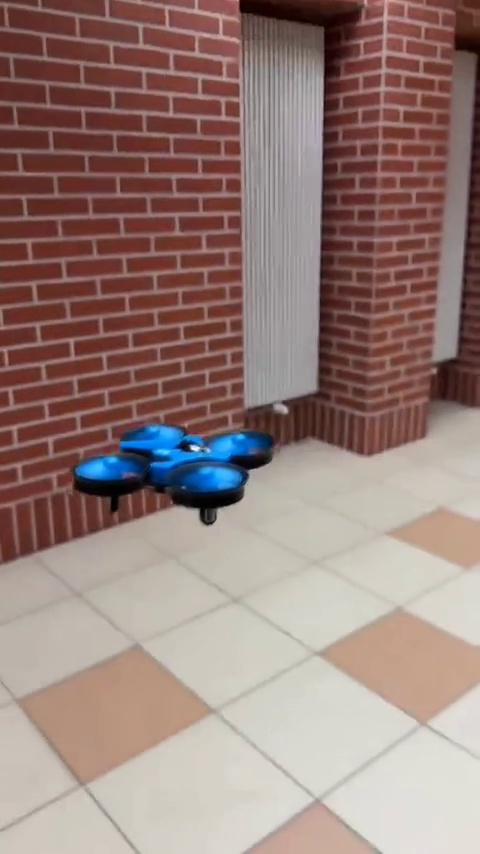drone: (68, 424, 265, 526)
